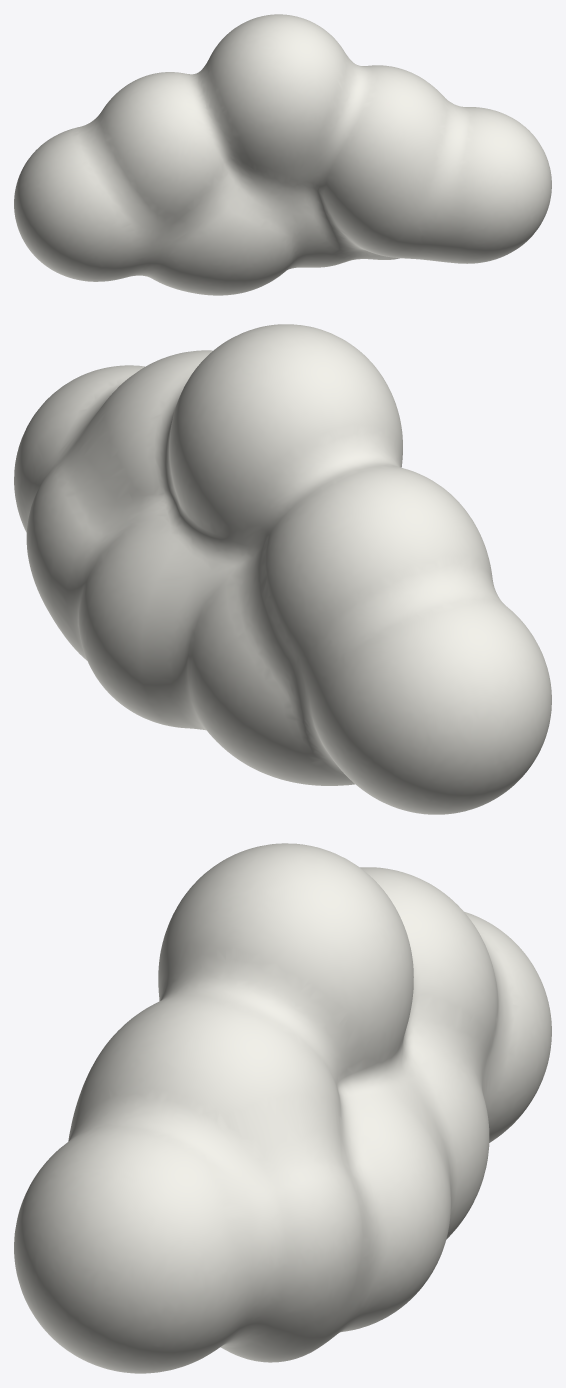
File: cloud-transformed.glb
The picture shows the model from 3 angles, top to bottom: view 1: azimuth 30°, elevation 25°; view 2: azimuth 150°, elevation 25°; view 3: azimuth 270°, elevation 25°; orthographic projection. The views are drawn at different scales.
Visible parts, largest first — view 1: cloud; view 2: cloud; view 3: cloud.
Boxes of the visible parts, bbox=[...] form: cloud: bbox=[14, 14, 551, 295]; cloud: bbox=[14, 324, 551, 814]; cloud: bbox=[14, 843, 551, 1373].
Size of the model in its own units: 242 by 146 by 161.
1 material, 1 textured.
